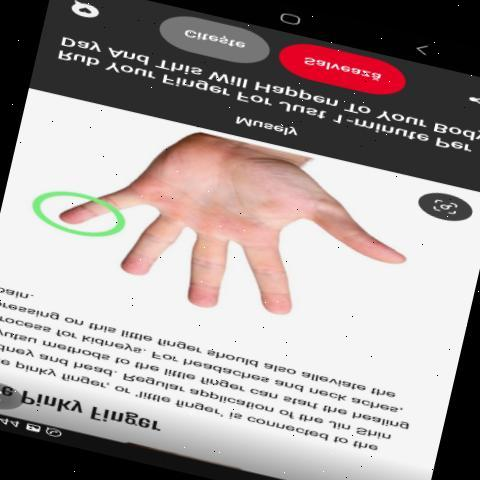Hands: (31, 145, 430, 319)
